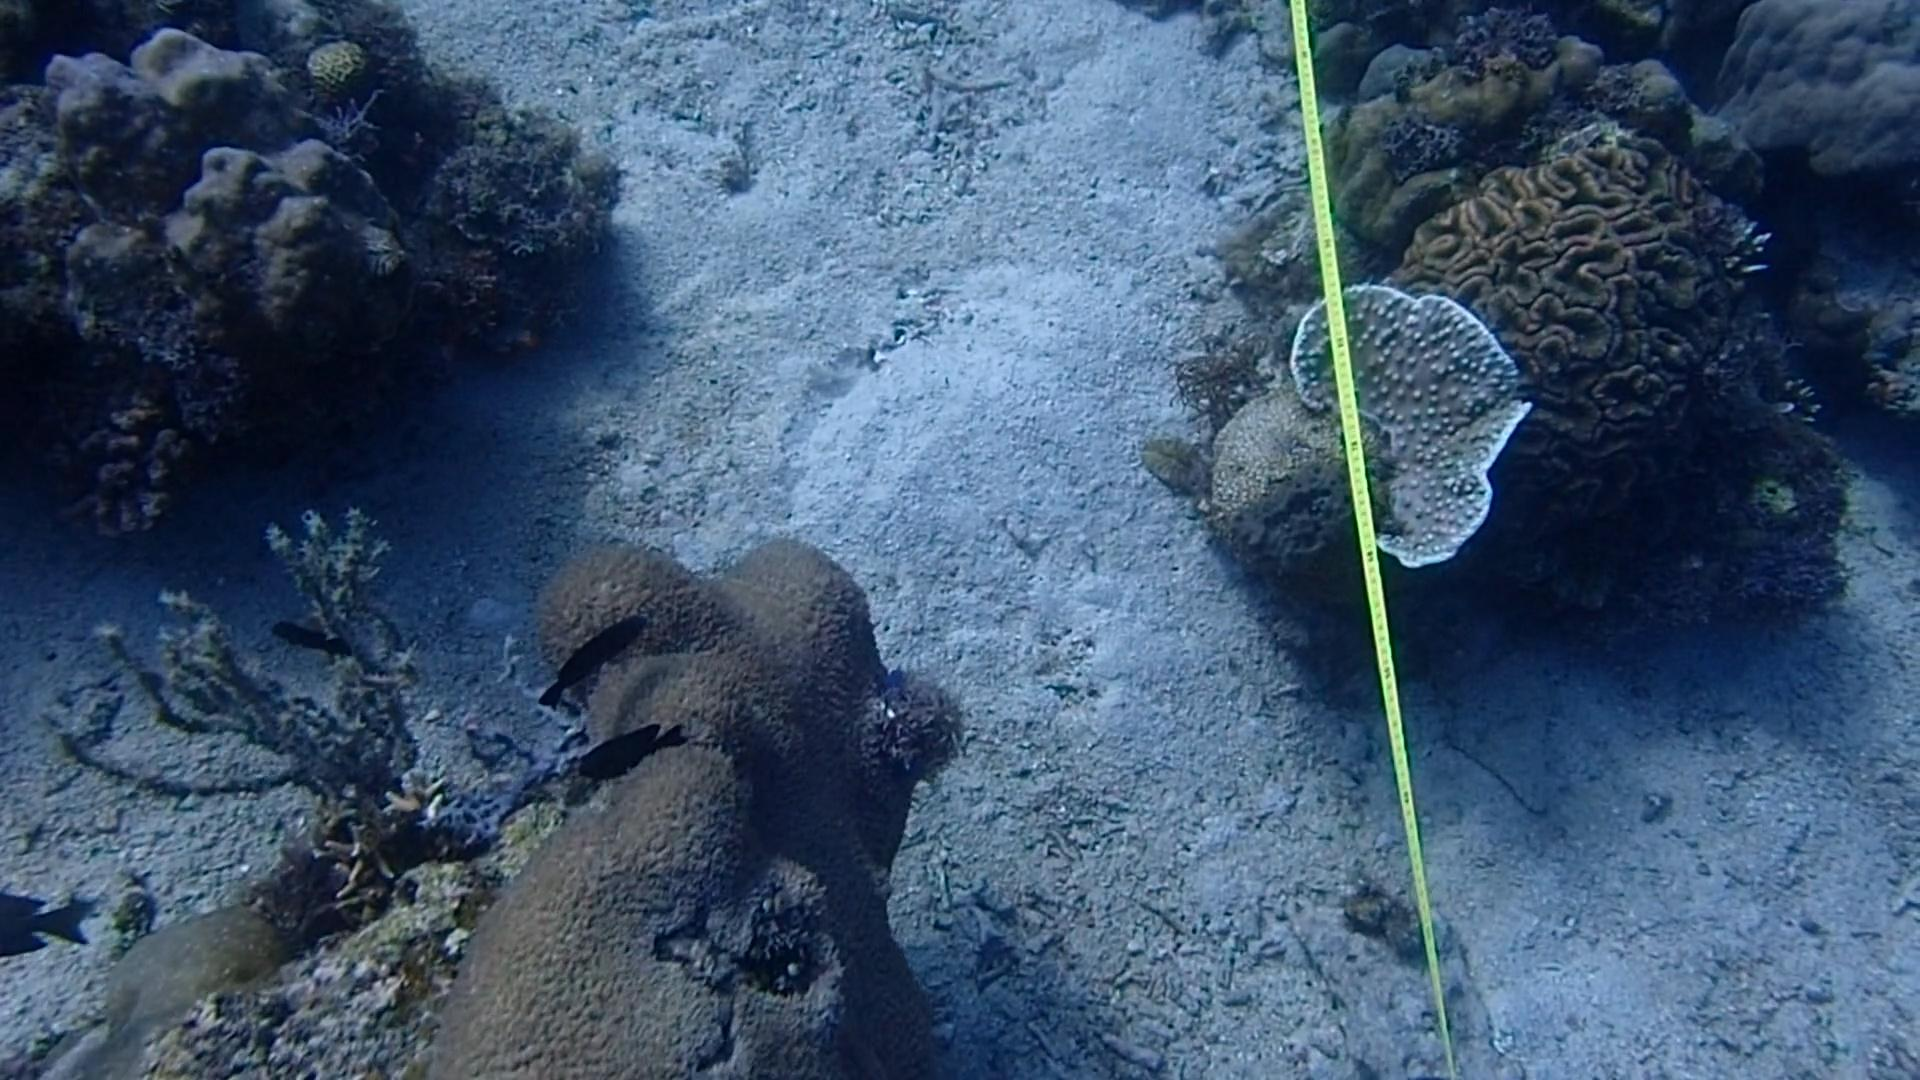Dark Fish: (526, 603, 638, 705), (546, 709, 684, 786), (265, 607, 356, 671)
